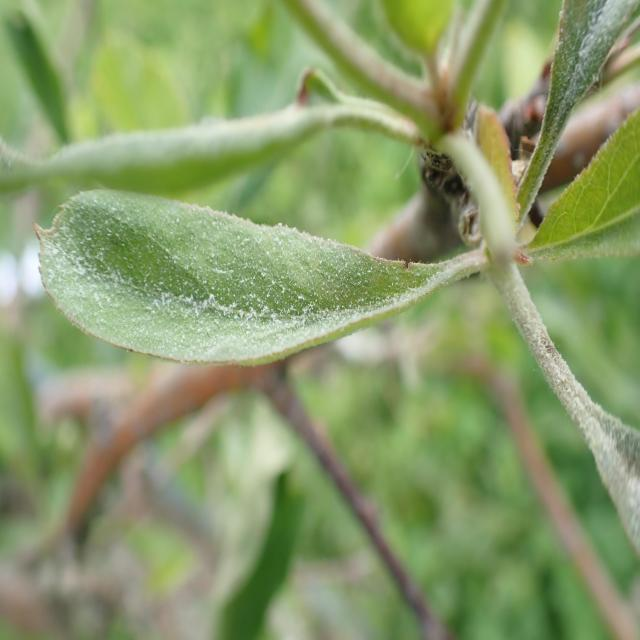Powdery_mildew: (31, 167, 442, 356), (531, 0, 640, 218), (550, 338, 640, 569)
